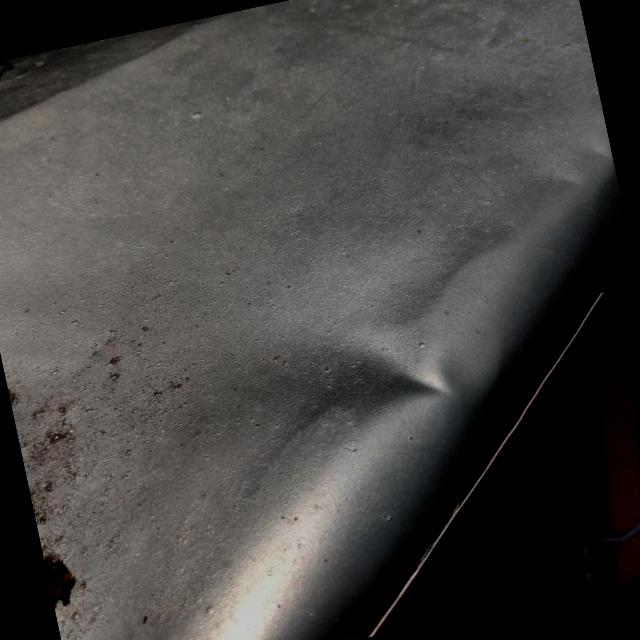dent: (268, 276, 472, 450)
